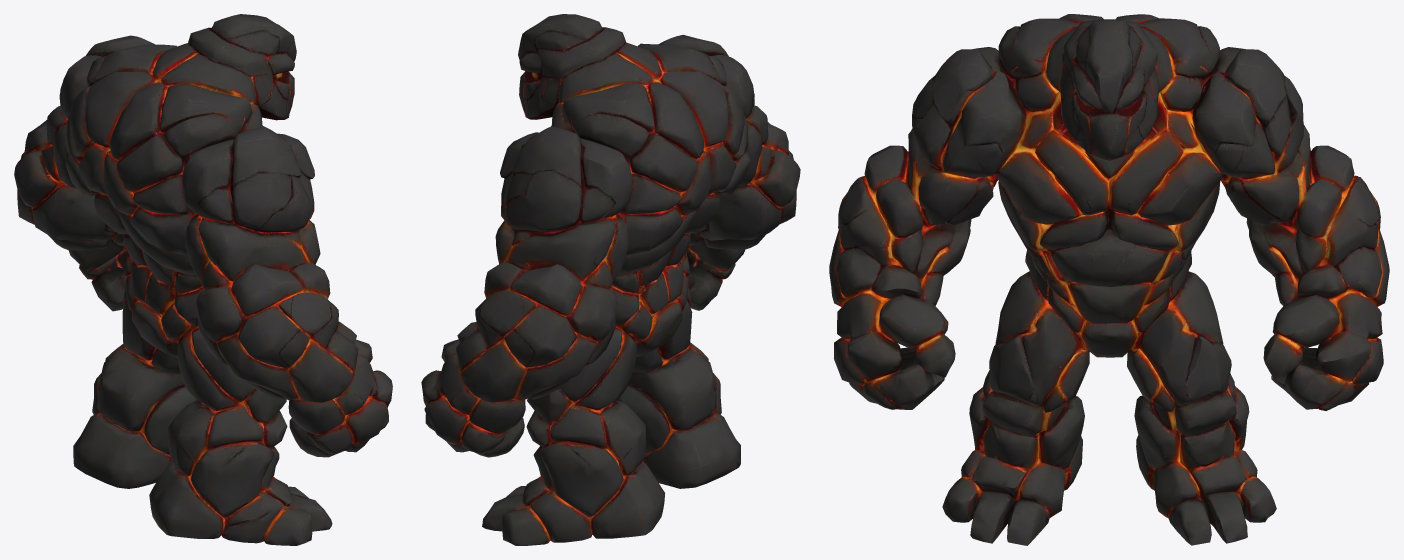
File: golem.glb
3 renders of one model, left to right at view 1: azimuth 30°, elevation 25°; view 2: azimuth 150°, elevation 25°; view 3: azimuth 270°, elevation 25°, orthographic. The views are drawn at different scales.
Parts seen in each view (by area): view 1: geometry_0; view 2: geometry_0; view 3: geometry_0.
Part boxes in pixels (left/top/right/bottom): geometry_0: left=14, top=14, right=392, bottom=545; geometry_0: left=421, top=14, right=800, bottom=545; geometry_0: left=829, top=14, right=1389, bottom=545.
Bounding box in the file's own units: 0.4296 × 0.9919 × 0.9983.
1 material, 1 textured.
